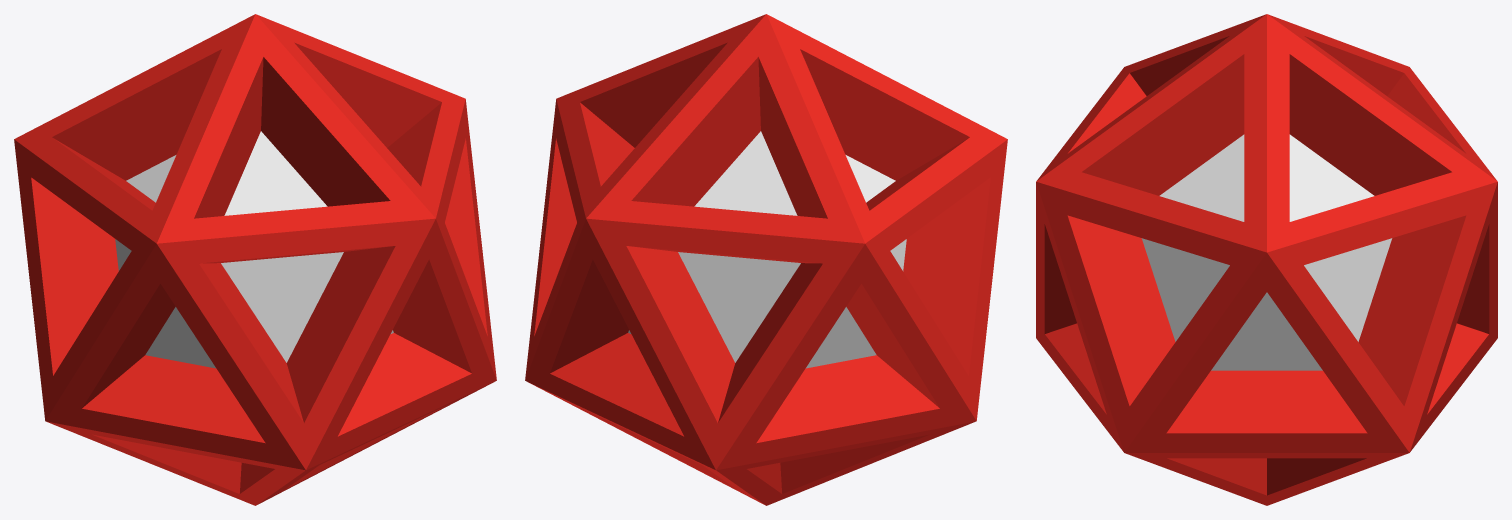
Rendered from ico crystal 2.fbx.
3 views of the same model, side by side, from view 1: azimuth 30°, elevation 25°; view 2: azimuth 150°, elevation 25°; view 3: azimuth 270°, elevation 25° (orthographic).
Visible parts, largest first — view 1: Icosphere; view 2: Icosphere; view 3: Icosphere.
Boxes of the visible parts, bbox=[...] form: Icosphere: bbox=[14, 14, 496, 505]; Icosphere: bbox=[525, 14, 1007, 505]; Icosphere: bbox=[1036, 14, 1497, 505].
Size of the model in its own units: 170 by 179 by 200.
